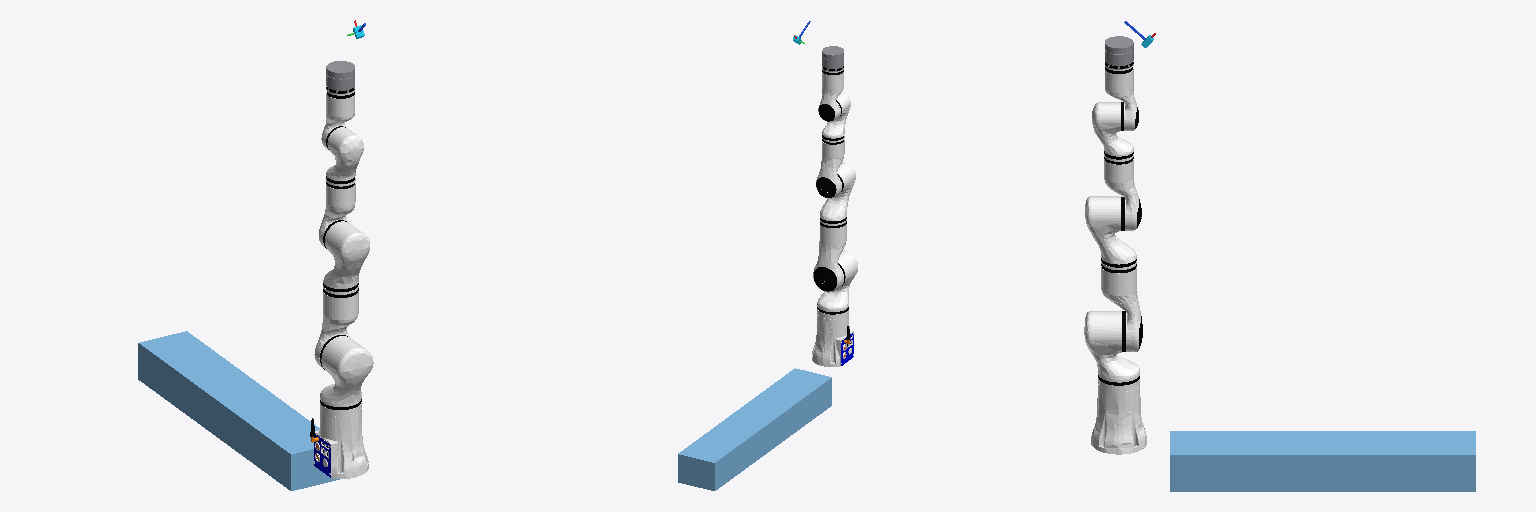
URDF robot description (RM75-6F-8dof-genesis):
<?xml version="1.0" encoding="utf-8"?>
<!-- Genesis viewer URDF: 60 cm rail visual + RM75 arm Collada meshes.
     Joint origins MUST match RM75-6F-8dof.urdf (verified FK @ joint_admittance).
     No extra visual offsets on arm links — meshes only at origin 0 0 0. -->
<robot name="RM75-6F-8dof-genesis">
  <link name="rail_base">
    <inertial>
      <origin xyz="0 0 0" rpy="0 0 0" />
      <mass value="5.0" />
      <inertia ixx="0.05" ixy="0" ixz="0" iyy="0.05" iyz="0" izz="0.05" />
    </inertial>
  </link>

  <link name="rail_visual">
    <visual>
      <origin xyz="0 0 -0.04" rpy="0 0 0" />
      <geometry>
        <box size="0.11 0.60 0.08" />
      </geometry>
      <material name="rail_light_blue">
        <color rgba="0.55 0.78 0.95 1.0" />
      </material>
    </visual>
  </link>
  <joint name="rail_visual_mount" type="fixed">
    <origin xyz="0 0 0" rpy="0 0 0" />
    <parent link="rail_base" />
    <child link="rail_visual" />
  </joint>
  <link name="slider_link">
    <inertial>
      <origin xyz="0 0 0" rpy="0 0 0" />
      <mass value="2.0" />
      <inertia ixx="0.01" ixy="0" ixz="0" iyy="0.01" iyz="0" izz="0.01" />
    </inertial>
  </link>
  <joint name="rail_y" type="prismatic">
    <origin xyz="0 -0.4 0" rpy="0 0 0" />
    <parent link="rail_base" />
    <child link="slider_link" />
    <axis xyz="0 1 0" />
    <limit lower="0.0" upper="0.80" velocity="0.5" effort="500" />
  </joint>
  <link name="base_link">
    <inertial>
      <origin xyz="0.00049987 5.2709E-05 0.060019" rpy="0 0 0" />
      <mass value="1.862" />
      <inertia ixx="0.0017232" ixy="-3.1058E-06" ixz="-3.7924E-05"
               iyy="0.0017051" iyz="1.3691E-06" izz="0.00090158" />
    </inertial>
    <visual>
      <origin xyz="0 0 0" rpy="0 0 0" />
      <geometry>
        <mesh filename="meshes/base_link.dae" />
      </geometry>
    </visual>
  </link>
  <joint name="arm_mount" type="fixed">
    <origin xyz="0 0 0" rpy="0 0 0" />
    <parent link="slider_link" />
    <child link="base_link" />
  </joint>
  <link name="link_1">
    <inertial>
      <origin xyz="0.000241 -0.013273 -0.00995" rpy="0 0 0" />
      <mass value="1.574" />
      <inertia ixx="0.002487573" ixy="0.000009663" ixz="-0.000007909"
               iyy="0.002321038" iyz="0.000179393" izz="0.001450554" />
    </inertial>
    <visual>
      <origin xyz="0 0 0" rpy="0 0 0" />
      <geometry>
        <mesh filename="meshes/link_1.dae" />
      </geometry>
    </visual>
  </link>
  <joint name="joint_1" type="revolute">
    <origin xyz="0 0 0.2405" rpy="0 0 0" />
    <parent link="base_link" />
    <child link="link_1" />
    <axis xyz="0 0 1" />
    <limit lower="-3.106" upper="3.106" effort="60" velocity="3.14" />
  </joint>
  <link name="link_2">
    <inertial>
      <origin xyz="-0.000357 -0.106789 0.005329" rpy="0 0 0" />
      <mass value="1.217" />
      <inertia ixx="0.003494121" ixy="0.000002921" ixz="-0.000005613"
               iyy="0.000892721" iyz="-0.000583884" izz="0.003444080" />
    </inertial>
    <visual>
      <origin xyz="0 0 0" rpy="0 0 0" />
      <geometry>
        <mesh filename="meshes/link_2.dae" />
      </geometry>
    </visual>
  </link>
  <joint name="joint_2" type="revolute">
    <origin xyz="0 0 0" rpy="-1.5708 0 0" />
    <parent link="link_1" />
    <child link="link_2" />
    <axis xyz="0 0 1" />
    <limit lower="-2.2689" upper="2.2689" effort="60" velocity="3.14" />
  </joint>
  <link name="link_3">
    <inertial>
      <origin xyz="0.000003 -0.01398 -0.011324" rpy="0 0 0" />
      <mass value="1.11" />
      <inertia ixx="0.001836663" ixy="0.000002259" ixz="-0.000004216"
               iyy="0.001498875" iyz="0.000037167" izz="0.001062545" />
    </inertial>
    <visual>
      <origin xyz="0 0 0" rpy="0 0 0" />
      <geometry>
        <mesh filename="meshes/link_3.dae" />
      </geometry>
    </visual>
  </link>
  <joint name="joint_3" type="revolute">
    <origin xyz="0 -0.256 0" rpy="1.5708 0 0" />
    <parent link="link_2" />
    <child link="link_3" />
    <axis xyz="0 0 1" />
    <limit lower="-3.106" upper="3.106" effort="30" velocity="3.14" />
  </joint>
  <link name="link_4">
    <inertial>
      <origin xyz="-0.000005 -0.084658 0.004747" rpy="0 0 0" />
      <mass value="0.685" />
      <inertia ixx="0.001282444" ixy="-0.000000551" ixz="-0.000000630"
               iyy="0.000373013" iyz="-0.000232084" izz="0.001256177" />
    </inertial>
    <visual>
      <origin xyz="0 0 0" rpy="0 0 0" />
      <geometry>
        <mesh filename="meshes/link_4.dae" />
      </geometry>
    </visual>
  </link>
  <joint name="joint_4" type="revolute">
    <origin xyz="0 0 0" rpy="-1.5708 0 0" />
    <parent link="link_3" />
    <child link="link_4" />
    <axis xyz="0 0 1" />
    <limit lower="-2.356" upper="2.356" effort="30" velocity="3.14" />
  </joint>
  <link name="link_5">
    <inertial>
      <origin xyz="0.000078 -0.012937 -0.008781" rpy="0 0 0" />
      <mass value="0.619" />
      <inertia ixx="0.000627336" ixy="0.000001636" ixz="-0.000001345"
               iyy="0.000542455" iyz="0.000034970" izz="0.000370291" />
    </inertial>
    <visual>
      <origin xyz="0 0 0" rpy="0 0 0" />
      <geometry>
        <mesh filename="meshes/link_5.dae" />
      </geometry>
    </visual>
  </link>
  <joint name="joint_5" type="revolute">
    <origin xyz="0 -0.21 0" rpy="1.5708 0 0" />
    <parent link="link_4" />
    <child link="link_5" />
    <axis xyz="0 0 1" />
    <limit lower="-3.106" upper="3.106" effort="10" velocity="3.14" />
  </joint>
  <link name="link_6">
    <inertial>
      <origin xyz="-0.000014 -0.078524 0.002819" rpy="0 0 0" />
      <mass value="0.602" />
      <inertia ixx="0.000780774" ixy="-0.000000121" ixz="-0.000000469"
               iyy="0.000289973" iyz="-0.000120513" izz="0.000763955" />
    </inertial>
    <visual>
      <origin xyz="0 0 0" rpy="0 0 0" />
      <geometry>
        <mesh filename="meshes/link_6.dae" />
      </geometry>
    </visual>
  </link>
  <joint name="joint_6" type="revolute">
    <origin xyz="0 0 0" rpy="-1.5708 0 0" />
    <parent link="link_5" />
    <child link="link_6" />
    <axis xyz="0 0 1" />
    <limit lower="-2.234" upper="2.234" effort="10" velocity="3.14" />
  </joint>
  <link name="link_7">
    <inertial>
      <origin xyz="0.001094 -0.000077 -0.010119" rpy="0 0 0" />
      <mass value="0.144" />
      <inertia ixx="0.000044123" ixy="-0.000000064" ixz="0.0000003"
               iyy="0.000035078" iyz="-0.000000029" izz="0.000065445" />
    </inertial>
    <visual>
      <origin xyz="0 0 0" rpy="0 0 0" />
      <geometry>
        <mesh filename="meshes/link_7.dae" />
      </geometry>
    </visual>
  </link>
  <joint name="joint_7" type="revolute">
    <origin xyz="0 -0.1612 0" rpy="1.5708 0 0" />
    <parent link="link_6" />
    <child link="link_7" />
    <axis xyz="0 0 1" />
    <limit lower="-6.28" upper="6.28" effort="10" velocity="3.14" />
  </joint>
  <link name="link_8">
    <inertial>
      <origin xyz="0.003680 -0.012695 0.076874" rpy="0 0 0" />
      <mass value="0.4829" />
      <inertia ixx="0.0004135" ixy="-0.000003908" ixz="0.00003379"
               iyy="0.0002717" iyz="0.00001544" izz="0.0003621" />
    </inertial>
    <visual>
      <origin xyz="0 0 0" rpy="0 0 0" />
      <geometry>
        <mesh filename="meshes/probe45.dae" />
      </geometry>
    </visual>
  </link>
  <joint name="joint_8" type="fixed">
    <!-- Rz(π) about link_7 Z (probe45 mount yaw). -->
    <origin xyz="0 0 0" rpy="0 0 3.141592654" />
    <parent link="link_7" />
    <child link="link_8" />
  </joint>
  <link name="tcp" />
  <joint name="link_7_to_tcp" type="fixed">
    <origin xyz="0 -0.01523 0.12135" rpy="0.017732743 0.870791073 -1.547861183" />
    <parent link="link_7" />
    <child link="tcp" />
  </joint>
  <!-- OpenCV / Genesis / UE-calib optical: +Z out of lens, +X right, +Y down.
       Stage 5 T_link7_cam (26-view BA, 2026-08-26). -->
  <link name="wrist_camera">
    <visual>
      <origin xyz="0 0 0" rpy="0 0 0" />
      <geometry>
        <box size="0.022 0.016 0.012" />
      </geometry>
      <material name="wrist_camera_body">
        <color rgba="0.15 0.78 0.95 1" />
      </material>
    </visual>
    <visual>
      <origin xyz="0.012 0 0" rpy="0 0 0" />
      <geometry>
        <box size="0.024 0.003 0.003" />
      </geometry>
      <material name="wrist_camera_x">
        <color rgba="0.95 0.15 0.15 1" />
      </material>
    </visual>
    <visual>
      <origin xyz="0 0.012 0" rpy="0 0 0" />
      <geometry>
        <box size="0.003 0.024 0.003" />
      </geometry>
      <material name="wrist_camera_y">
        <color rgba="0.20 0.85 0.25 1" />
      </material>
    </visual>
    <visual>
      <origin xyz="0 0 0.03" rpy="0 0 0" />
      <geometry>
        <box size="0.004 0.004 0.060" />
      </geometry>
      <material name="wrist_camera_z">
        <color rgba="0.20 0.40 1.00 1" />
      </material>
    </visual>
  </link>
  <joint name="link_7_to_wrist_camera" type="fixed">
    <origin xyz="0.073036194 0.056181762 0.035658169" rpy="-0.20219080 -0.86145291 1.58824199" />
    <parent link="link_7" />
    <child link="wrist_camera" />
  </joint>
</robot>

--- What the picture shows (computed from the rendered views, not written in the file) ---
The picture shows the robot from 3 angles, left to right: view 1: azimuth 30°, elevation 25°; view 2: azimuth 150°, elevation 25°; view 3: azimuth 270°, elevation 25°; orthographic projection.
Robot: RM75-6F-8dof-genesis — 14 links, 13 joints (7 revolute, 1 prismatic, 5 fixed); root link rail_base; default pose: all joints at 0.
Links seen in each view (by area): view 1: rail_visual, base_link, link_1, link_3, link_5, link_2, link_4, link_6, link_7; view 2: rail_visual, base_link, link_2, link_4, link_1, link_3, link_6, link_5, link_7; view 3: rail_visual, base_link, link_1, link_3, link_2, link_5, link_4, link_6, link_7.
Link boxes in pixels (left/top/right/bottom): rail_visual: left=138, top=331, right=339, bottom=490; base_link: left=310, top=405, right=368, bottom=478; link_1: left=319, top=334, right=373, bottom=411; link_3: left=323, top=220, right=369, bottom=293; link_5: left=325, top=126, right=363, bottom=184; link_2: left=314, top=287, right=358, bottom=367; link_4: left=319, top=180, right=355, bottom=247; link_6: left=321, top=89, right=354, bottom=149; link_7: left=326, top=61, right=354, bottom=93; rail_visual: left=678, top=368, right=831, bottom=490; base_link: left=812, top=311, right=853, bottom=366; link_2: left=813, top=220, right=846, bottom=292; link_4: left=816, top=137, right=844, bottom=198; link_1: left=817, top=250, right=857, bottom=315; link_3: left=820, top=162, right=855, bottom=224; link_6: left=818, top=68, right=843, bottom=121; link_5: left=822, top=92, right=850, bottom=141; link_7: left=822, top=46, right=843, bottom=71; rail_visual: left=1170, top=431, right=1475, bottom=491; base_link: left=1091, top=380, right=1146, bottom=454; link_1: left=1084, top=311, right=1139, bottom=387; link_3: left=1085, top=196, right=1136, bottom=268; link_2: left=1101, top=263, right=1142, bottom=351; link_5: left=1092, top=102, right=1133, bottom=160; link_4: left=1104, top=155, right=1141, bottom=230; link_6: left=1105, top=64, right=1138, bottom=130; link_7: left=1105, top=36, right=1133, bottom=69.
Bounding box of the posed robot: 0.1414 × 0.768 × 1.02 m (x, y, z).
Meshes: 9 distinct files referenced, 8 mesh visuals loaded (8 Collada DAE); not drawn: 1 (reference not matched to a file when rendering).
